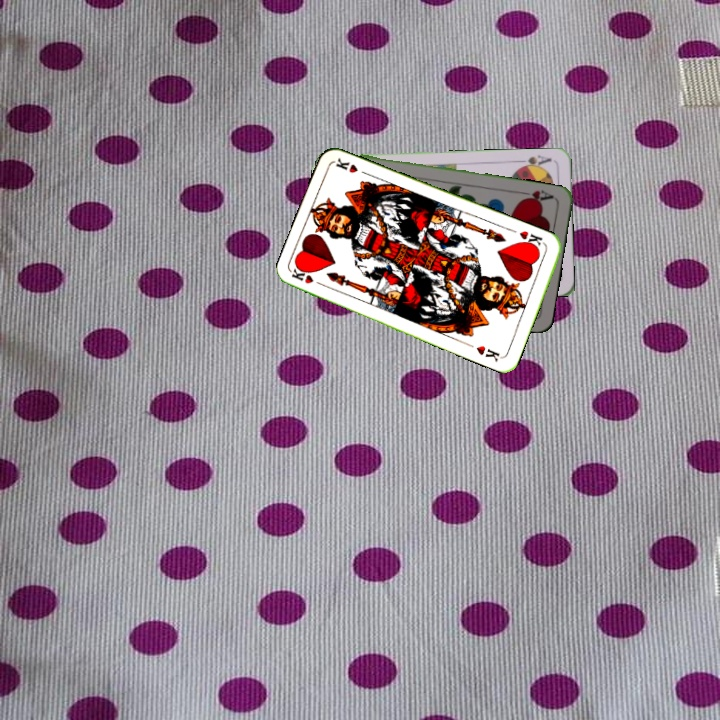HA: (516, 186, 556, 206)
HK: (288, 265, 328, 289), (515, 227, 545, 252)
SA: (514, 151, 554, 172)
